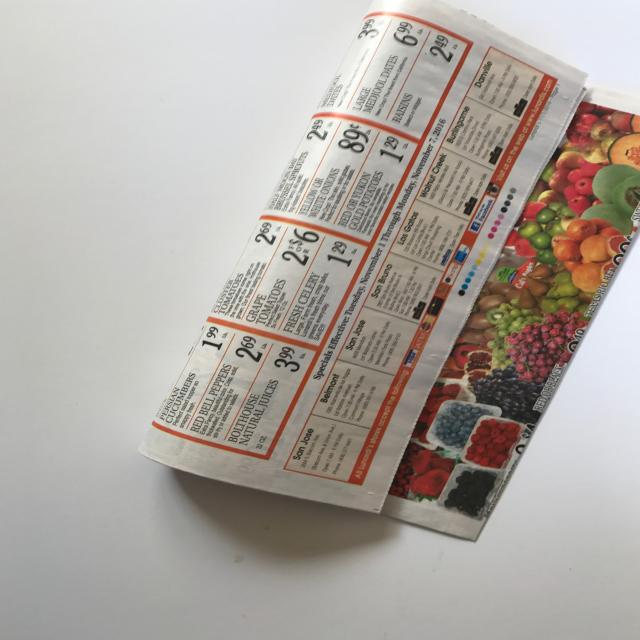paper: (106, 0, 640, 582)
